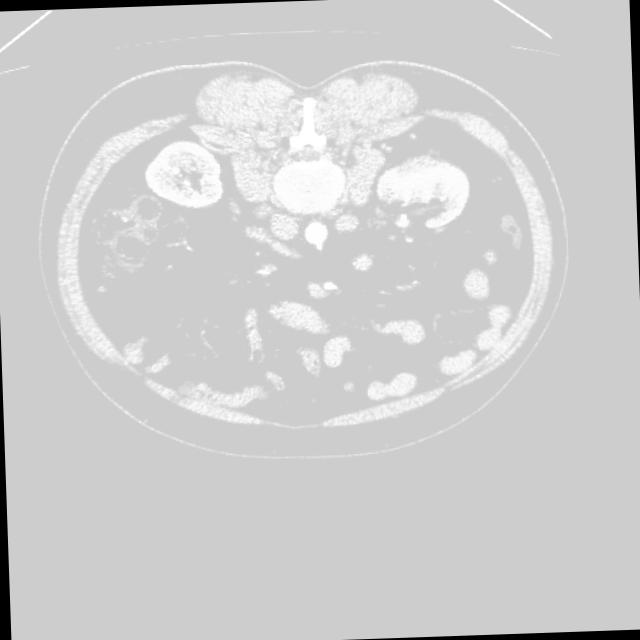TUMOR: (118, 152, 530, 422)
